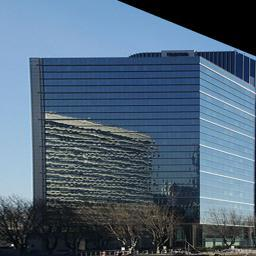building: (36, 47, 200, 235)
